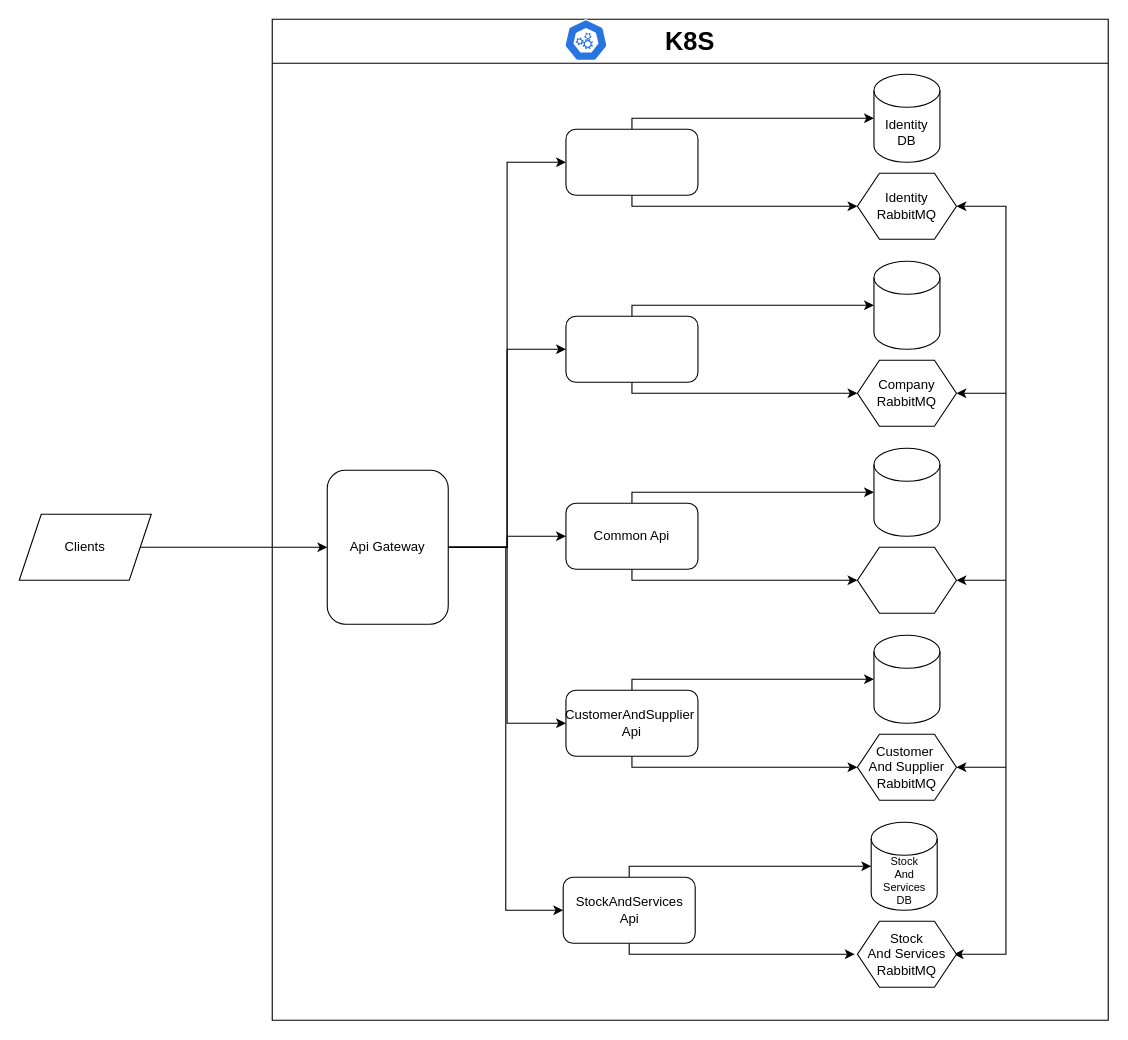
Image size: 1128x1040. Some labels were removed from this diagram. Here are the shapes that lost their labels. From the top down, the box of each, then its label:
(565, 128, 698, 195): Identity Api
(873, 260, 940, 349): Company DB
(565, 315, 698, 382): Company Api
(873, 447, 940, 536): Common DB
(856, 546, 956, 613): Common RabbitMQ
(873, 634, 940, 723): Customer And Supplier DB
